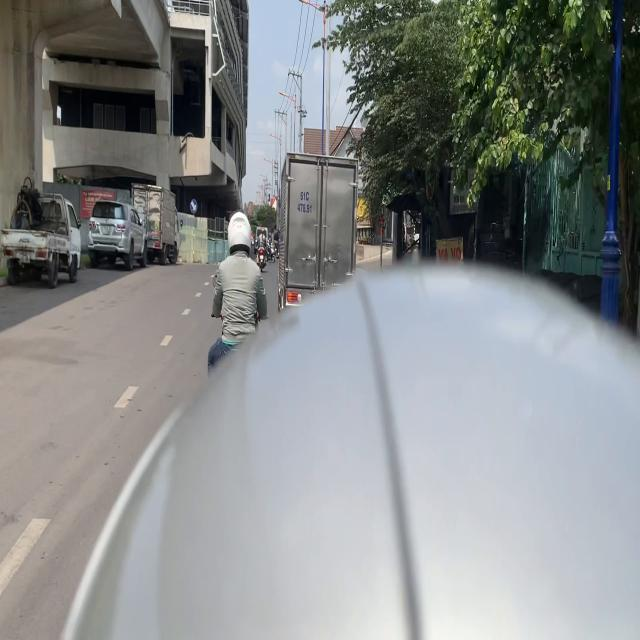Hieu lenh: (190, 199, 198, 214)
